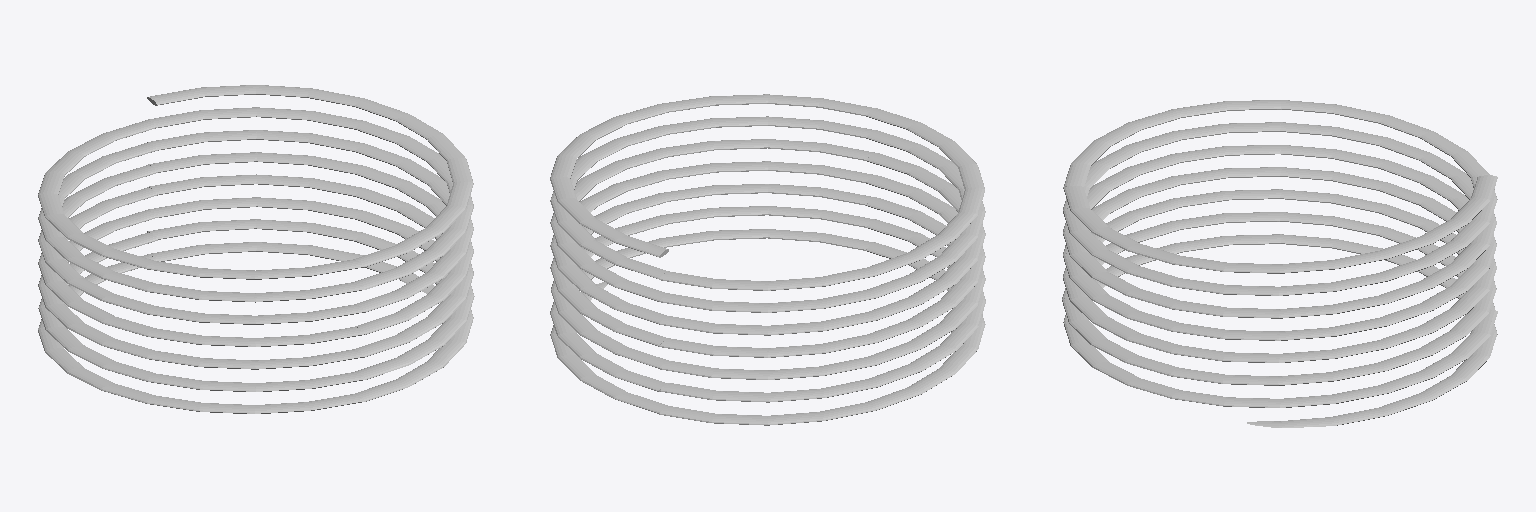
Rendered from tinker 4.obj.
3 renders of one model, left to right at view 1: azimuth 30°, elevation 25°; view 2: azimuth 150°, elevation 25°; view 3: azimuth 270°, elevation 25°, orthographic.
Visible parts, largest first — view 1: obj_0; view 2: obj_0; view 3: obj_0.
Boxes of the visible parts, <box> form: obj_0: <box>38,85,474,413</box>; obj_0: <box>550,94,985,425</box>; obj_0: <box>1062,100,1497,427</box>.
Size of the model in its own units: 65 by 26.59 by 65.